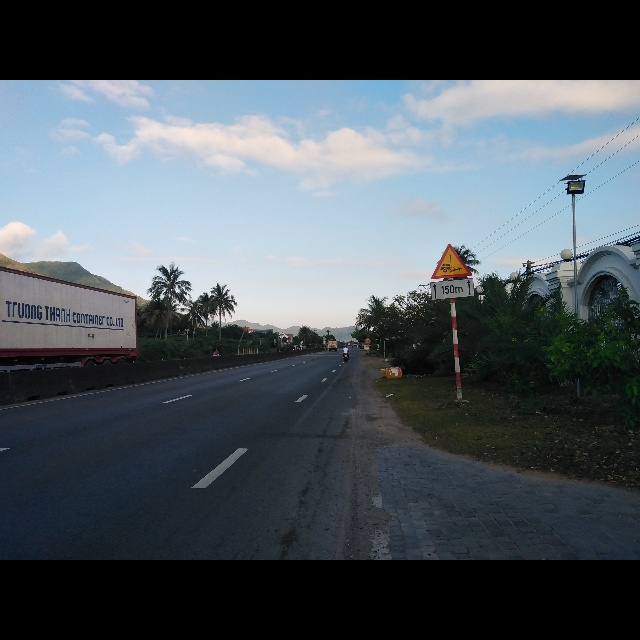Đoạn đường hay xảy ra tai nạn: (430, 243, 473, 278)
